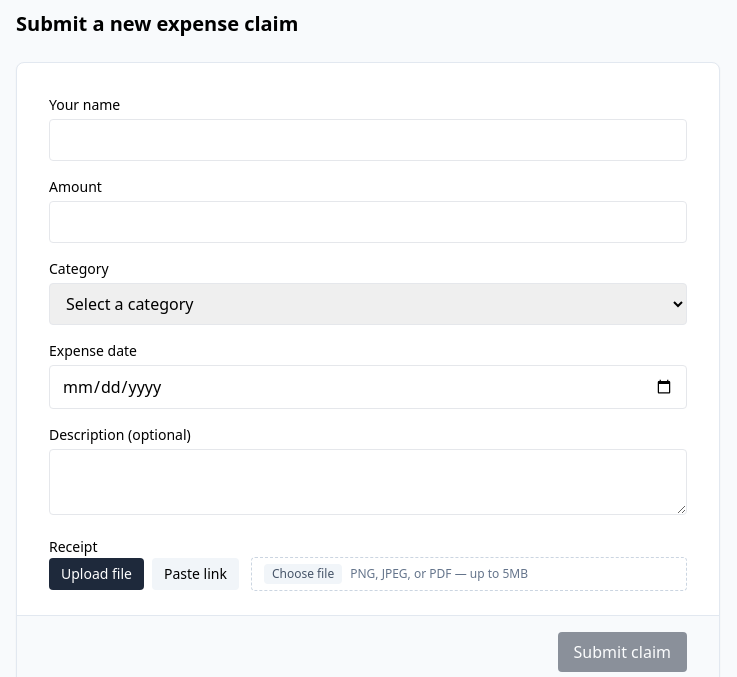
Test case: New claim submission renders the correct status badge › renders "requires-manager-1" badge for mock "Requires Manager"
Type "Jane Employee" into the field labelled "Your name" at (368,140), box x1=49 y1=119 x2=687 y2=161
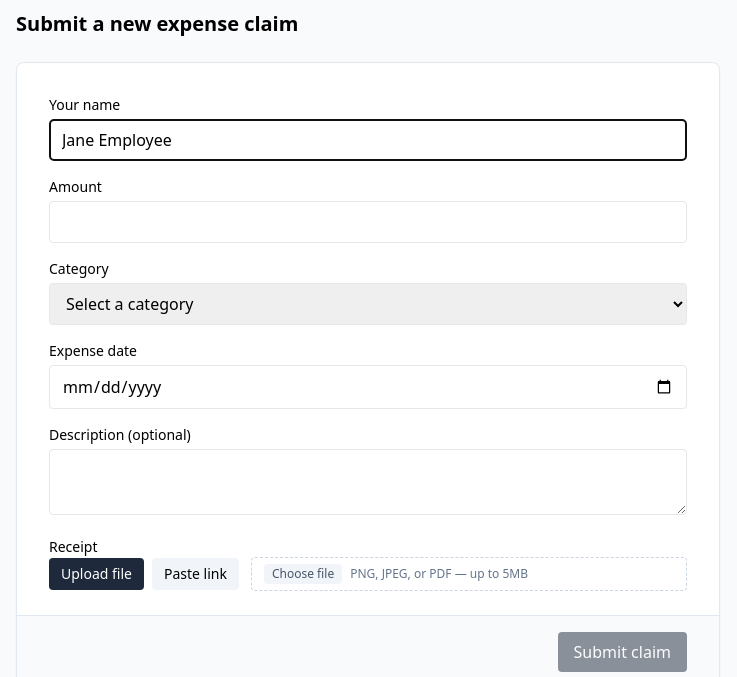
Type "20" into the field labelled "Amount" at (368,222), box x1=49 y1=201 x2=687 y2=243
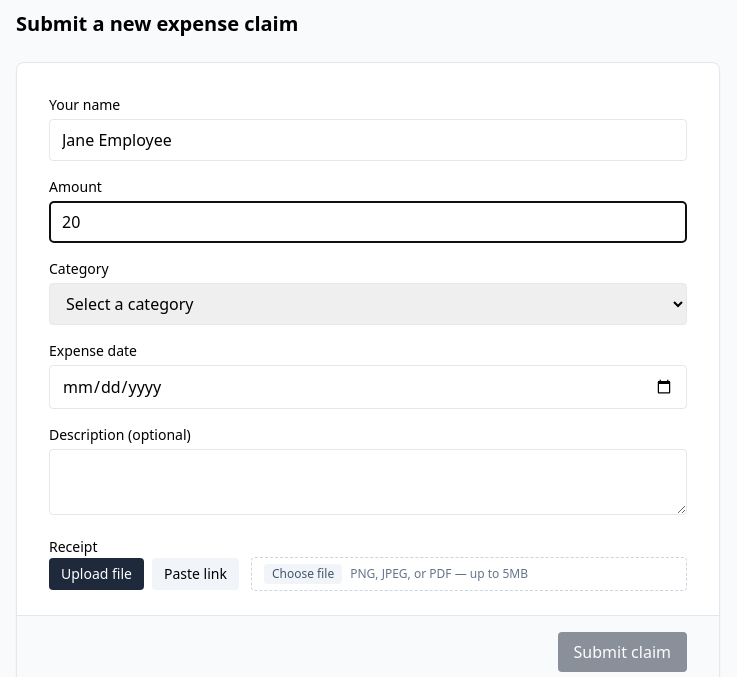
Select "meals" in the dropdown labelled "Category" at (368,304), box x1=49 y1=283 x2=687 y2=325
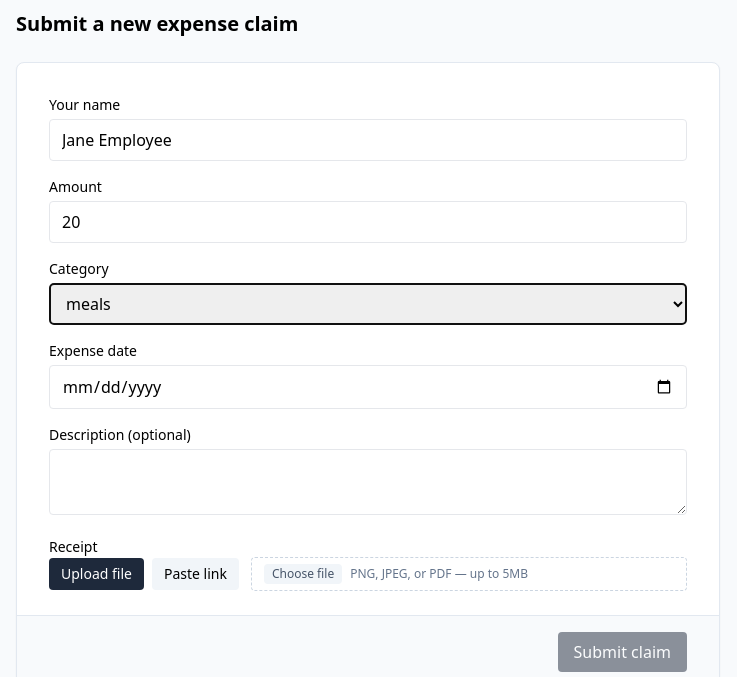
Type "2026-01-01" into the date field labelled "Expense date" at (368,387), box x1=49 y1=365 x2=687 y2=409
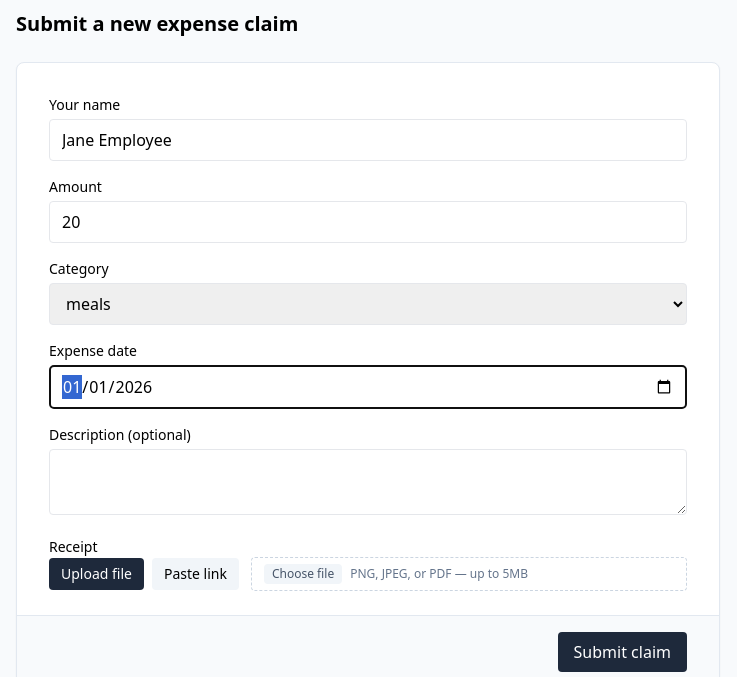
Click the button "Submit claim" at (622,652), box x1=558 y1=632 x2=687 y2=672
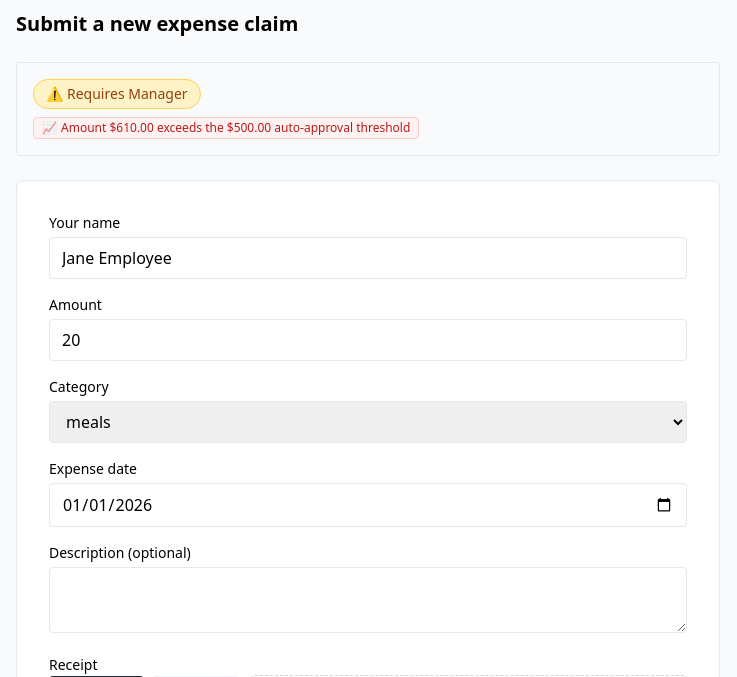
Now the message shows "Requires Manager", box x1=67 y1=84 x2=188 y2=103
Now the text "Amount $610.00 exceeds the $500.00 auto-approval threshold" is shown, box x1=61 y1=119 x2=410 y2=136
